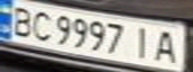7: (103, 20, 130, 56)
9: (48, 11, 75, 46), (84, 18, 109, 53), (66, 16, 90, 50)
A: (151, 27, 184, 64)
B: (3, 2, 39, 38)
C: (27, 9, 57, 42)
I: (127, 24, 160, 61)
